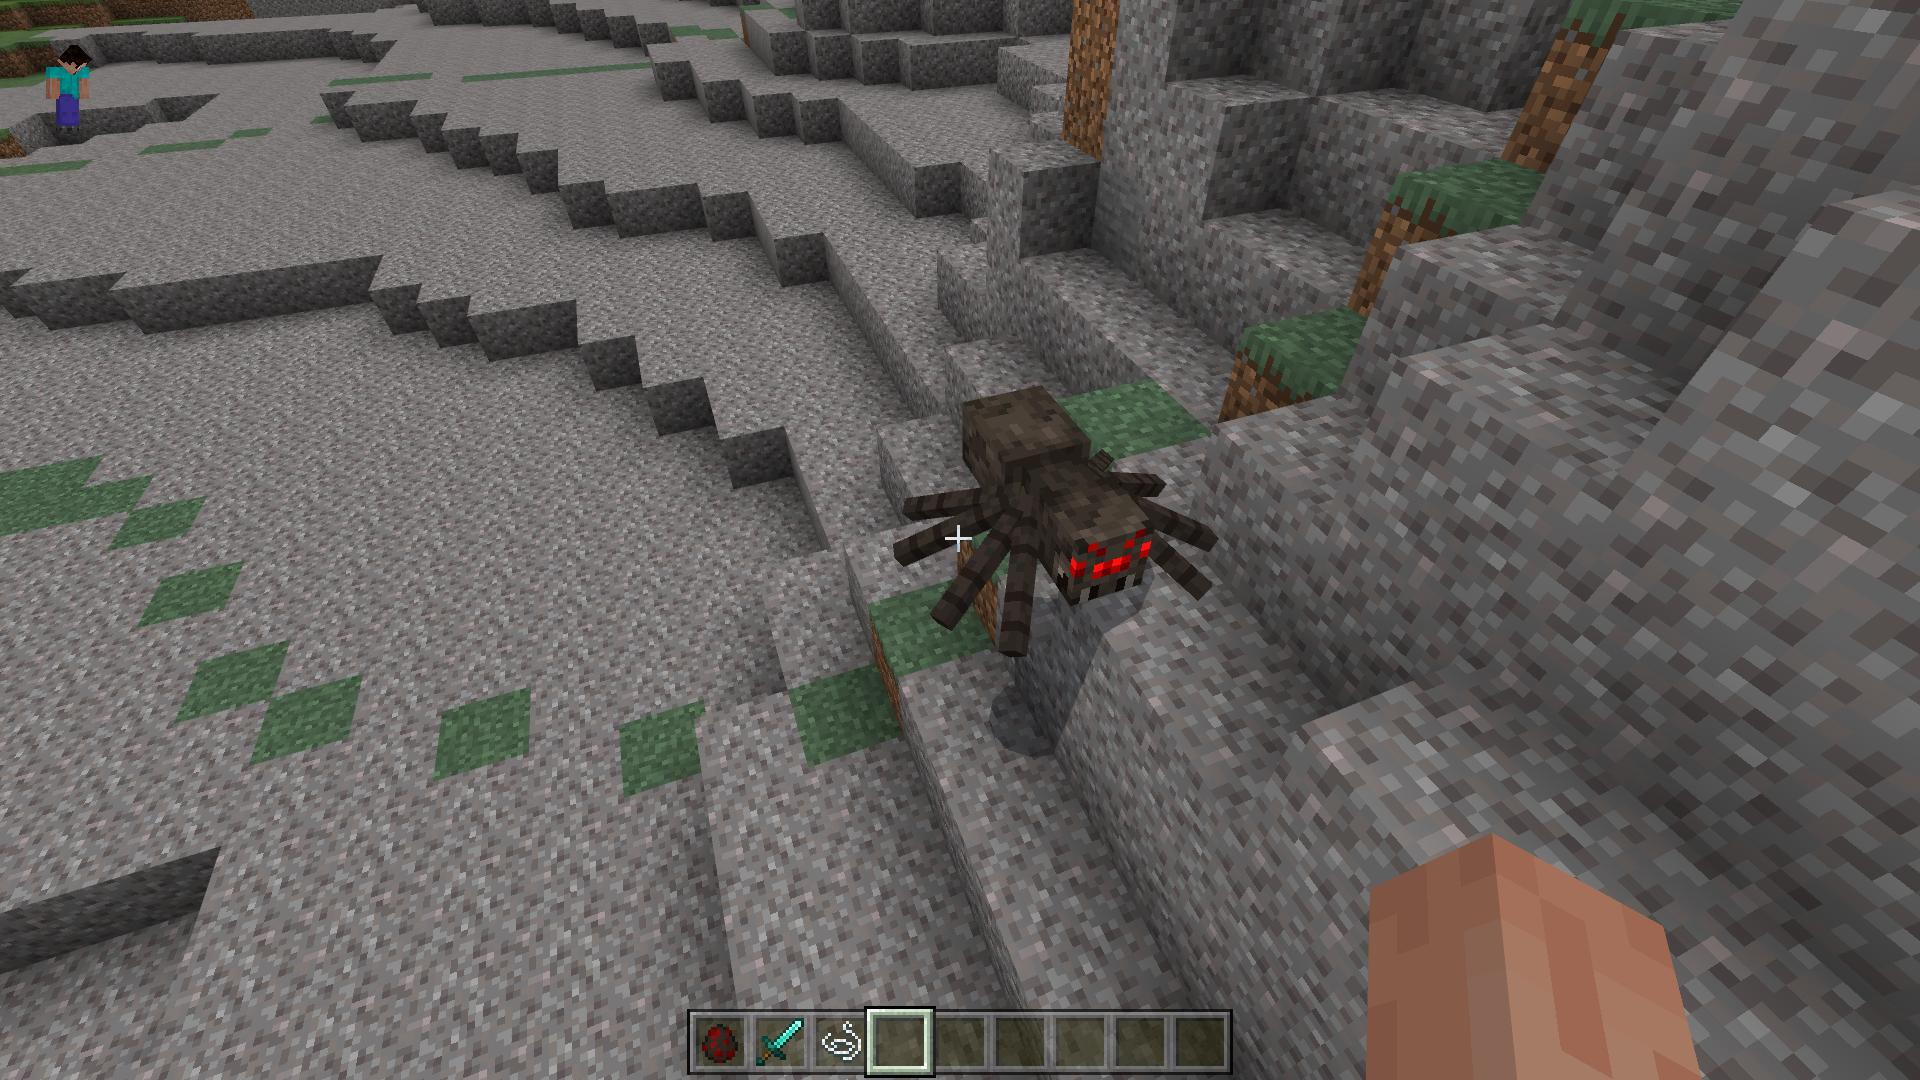spider: (897, 384, 1220, 657)
